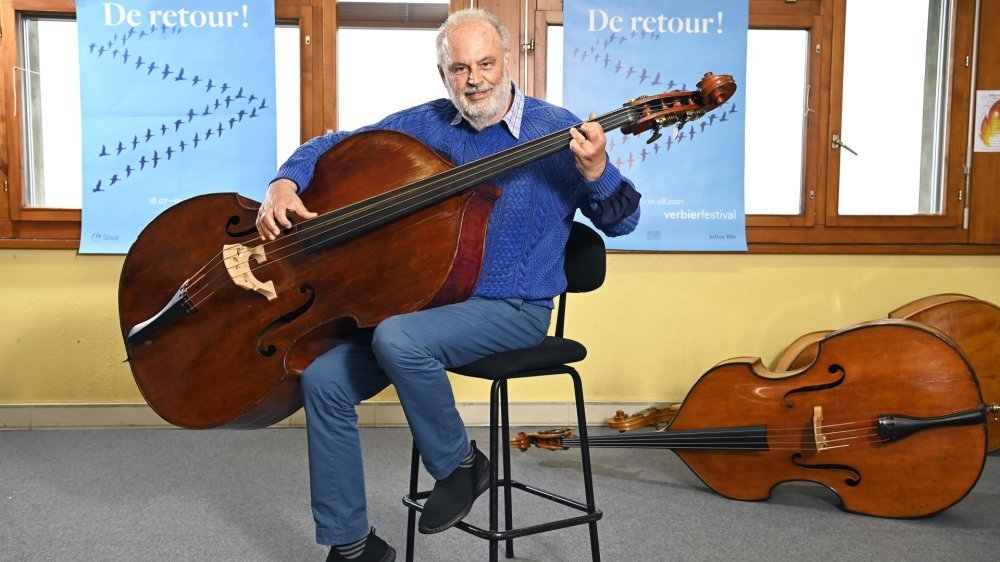without_mask: (451, 46, 504, 112)
